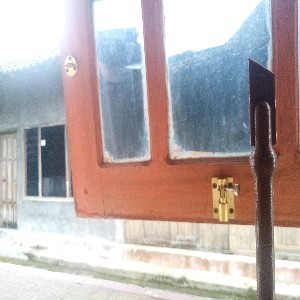cutter: (247, 56, 279, 300)
